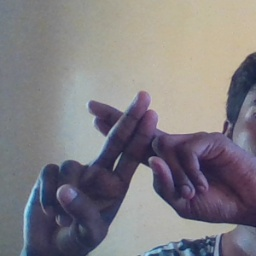F: (67, 76, 208, 210)
